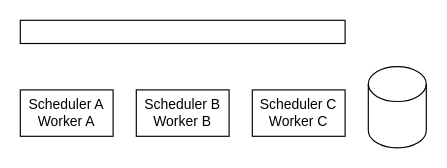
The diagram is 447 pixels wide and 168 high, and some of its shapes have lost their labels. The shapes that lost their labels are listed below. From the top down, each one's centre as x and y in pixels, then its label:
At (182,31): "Web console".
At (396,107): "PG".
